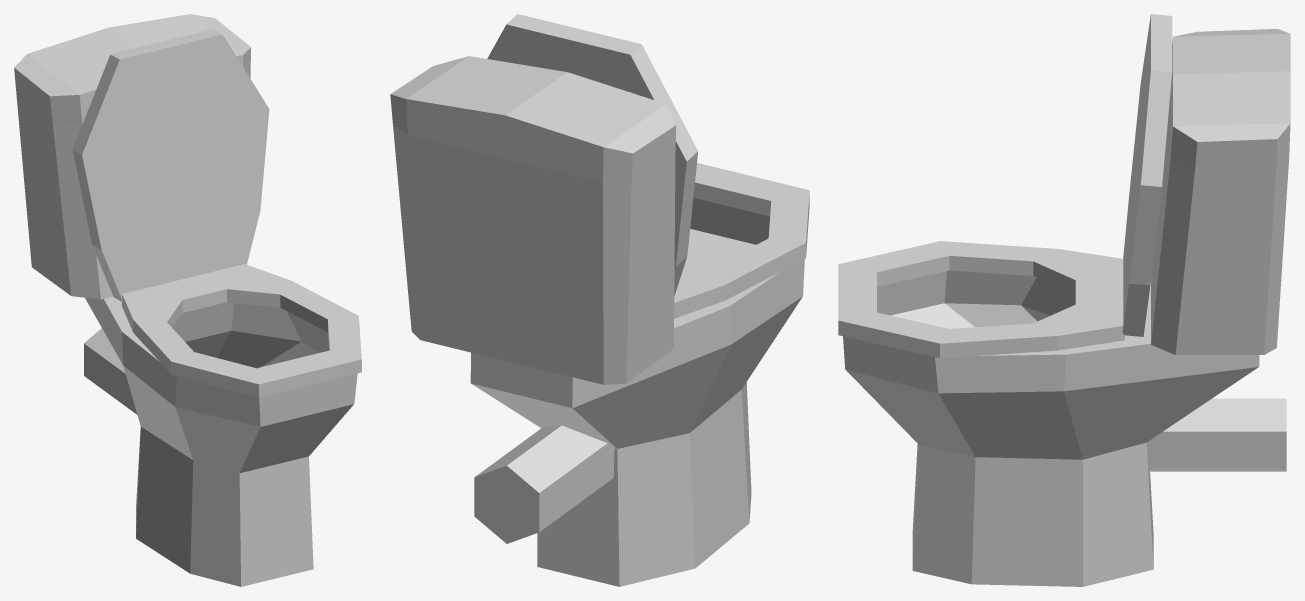
Rendered from toilet.glb.
3 views of the same model, side by side, from view 1: azimuth 30°, elevation 25°; view 2: azimuth 150°, elevation 25°; view 3: azimuth 270°, elevation 25° (orthographic). The views are drawn at different scales.
Parts seen in each view (by area): view 1: toilet; view 2: toilet; view 3: toilet.
Boxes of the visible parts, x1,y1,x2,y2 form: toilet: (14, 14, 361, 586); toilet: (390, 14, 809, 586); toilet: (838, 14, 1290, 586).
Bounding box in the file's own units: 0.4067 × 0.8753 × 0.7046.
Materials: 1 (1 with a texture image).
